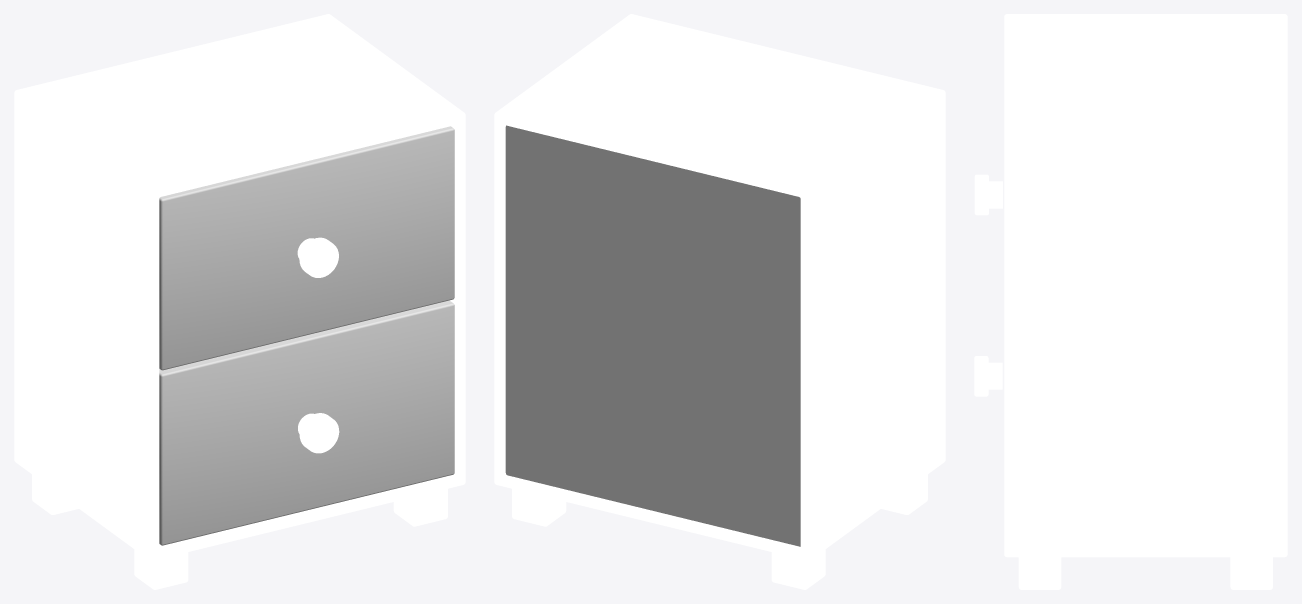
Rendered from pinus_bedSide_table.glb.
3 renders of one model, left to right at view 1: azimuth 30°, elevation 25°; view 2: azimuth 150°, elevation 25°; view 3: azimuth 270°, elevation 25°, orthographic. The views are drawn at different scales.
Parts seen in each view (by area): view 1: Body, Front, Base, Handle, Hande 2; view 2: Body, Back, Base; view 3: Body, Base, Hande 2, Handle.
Boxes of the visible parts, box(x1,y1,x2,y2) form: Body: box(14, 14, 465, 560); Front: box(159, 126, 454, 545); Base: box(32, 474, 447, 589); Handle: box(298, 413, 339, 453); Hande 2: box(297, 237, 338, 277); Body: box(494, 14, 945, 560); Back: box(505, 125, 800, 546); Base: box(512, 474, 927, 589); Body: box(1004, 14, 1287, 557); Base: box(1018, 557, 1272, 589); Hande 2: box(974, 174, 1002, 215); Handle: box(974, 356, 1002, 396).
Size of the model in its own units: 0.4 by 0.4945 by 0.3316.
3 materials, 2 textured.
